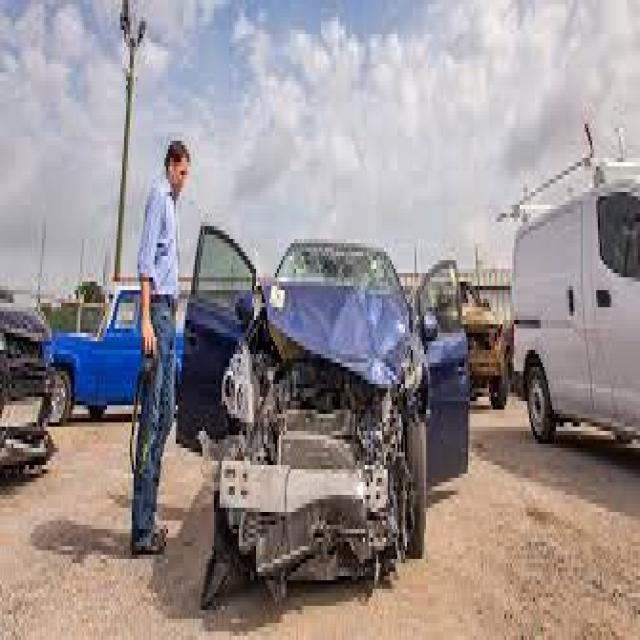accident: (196, 212, 453, 578)
